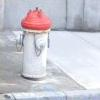a fire hydrant: (17, 7, 53, 79)
